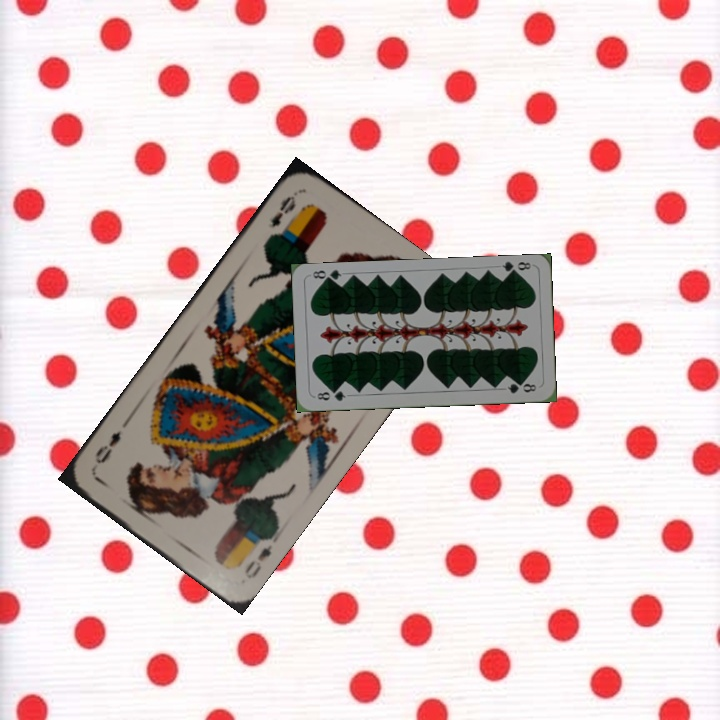EO: (264, 188, 300, 241), (240, 540, 275, 582)
G8: (498, 258, 533, 278), (313, 386, 348, 404)
